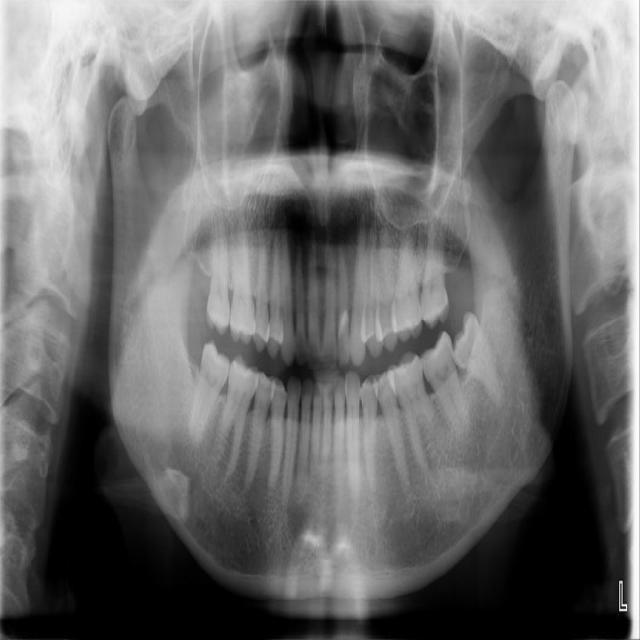73: (620, 610, 628, 622)
BioHorizons Implant: (419, 184, 450, 330)
Biomet 3i Implant: (439, 308, 509, 414)
Blue Sky Bio Implant: (413, 328, 476, 452)
Caries: (205, 216, 230, 335)
Implant: (187, 338, 234, 447)
